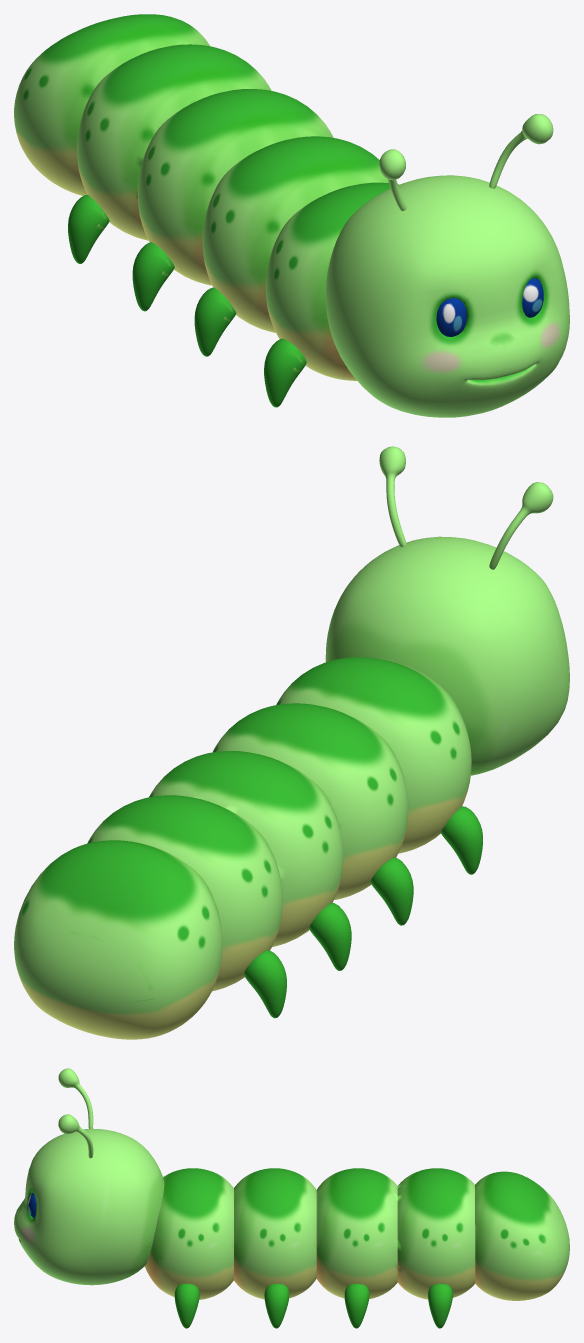
Rendered from bait.fbx.
3 views of the same model, one above another, from view 1: azimuth 30°, elevation 25°; view 2: azimuth 150°, elevation 25°; view 3: azimuth 270°, elevation 25° (orthographic). The views are drawn at different scales.
Parts seen in each view (by area): view 1: Gusano.001; view 2: Gusano.001; view 3: Gusano.001.
Part boxes in pixels (<box>): Gusano.001: <box>14,14,569,417</box>; Gusano.001: <box>14,446,569,1039</box>; Gusano.001: <box>14,1068,569,1328</box>.
Bounding box in the file's own units: 8.59 × 12.16 × 29.81.
